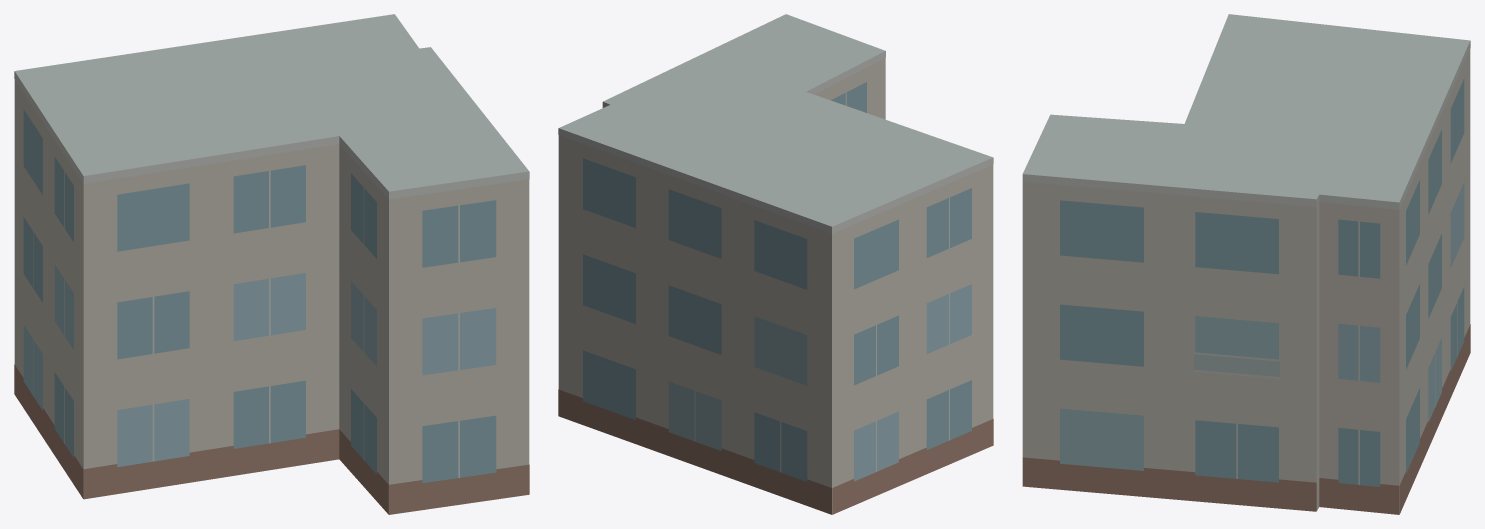
File: survey-upis-32509255.glb
The picture shows the model from 3 angles, left to right: view 1: azimuth 30°, elevation 25°; view 2: azimuth 150°, elevation 25°; view 3: azimuth 270°, elevation 25°; orthographic projection. The views are drawn at different scales.
Visible parts, largest first — view 1: survey-upis-32509255.tmp; view 2: survey-upis-32509255.tmp; view 3: survey-upis-32509255.tmp.
Part boxes in pixels (x1,y1,x2,y2): survey-upis-32509255.tmp: (14, 14, 529, 514); survey-upis-32509255.tmp: (558, 14, 993, 514); survey-upis-32509255.tmp: (1022, 14, 1470, 514).
Bounding box in the file's own units: 13.08 × 10.1 × 13.13.
